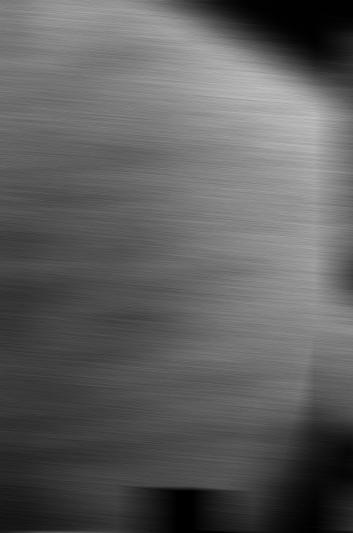Airbag: (0, 0, 352, 532), (337, 0, 353, 532), (0, 532, 353, 533), (337, 531, 353, 533)
